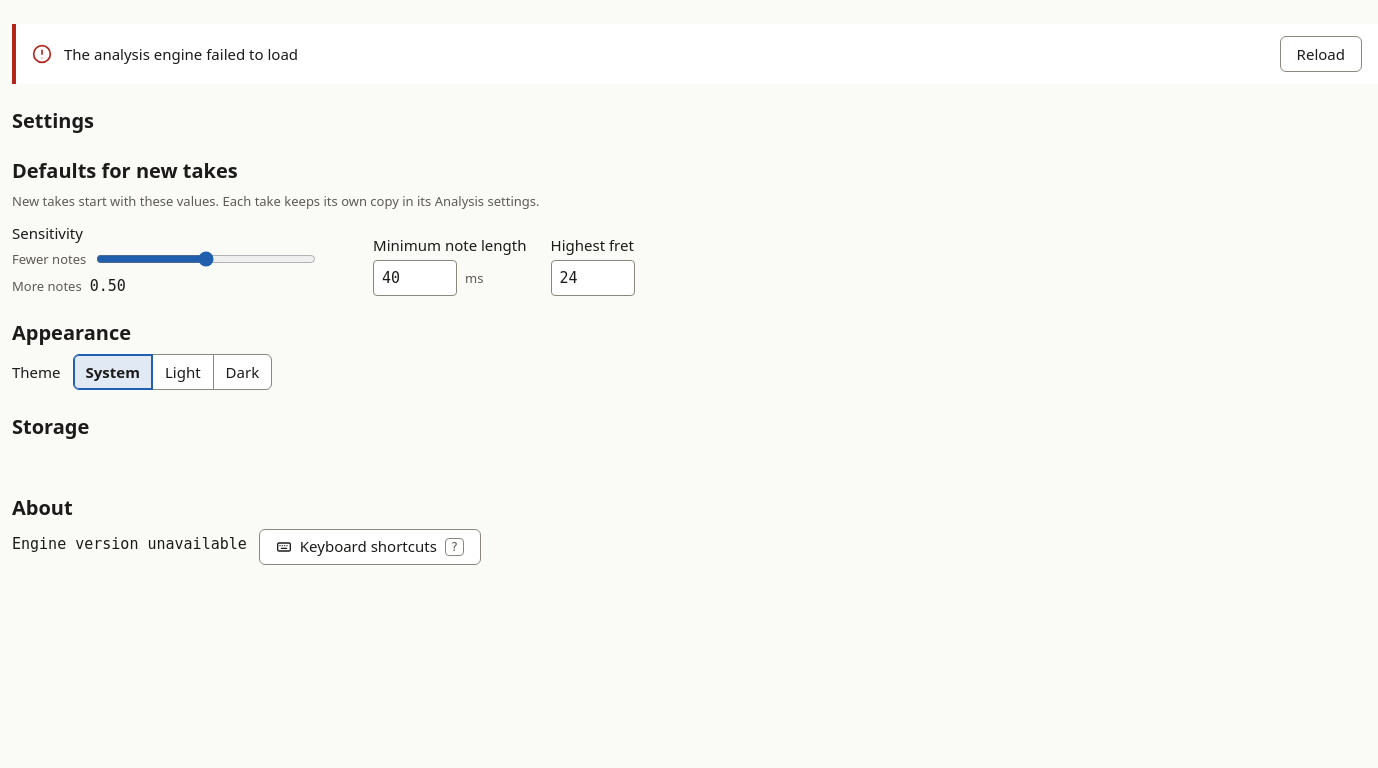
Scenario: engine failed and a take recording: Reload is refused with the reloadBusy toast
Expected: the text "The analysis engine failed to load" is shown, [64, 44, 298, 64]
Click the button "Reload": (1321, 54) [1280, 36, 1362, 72]
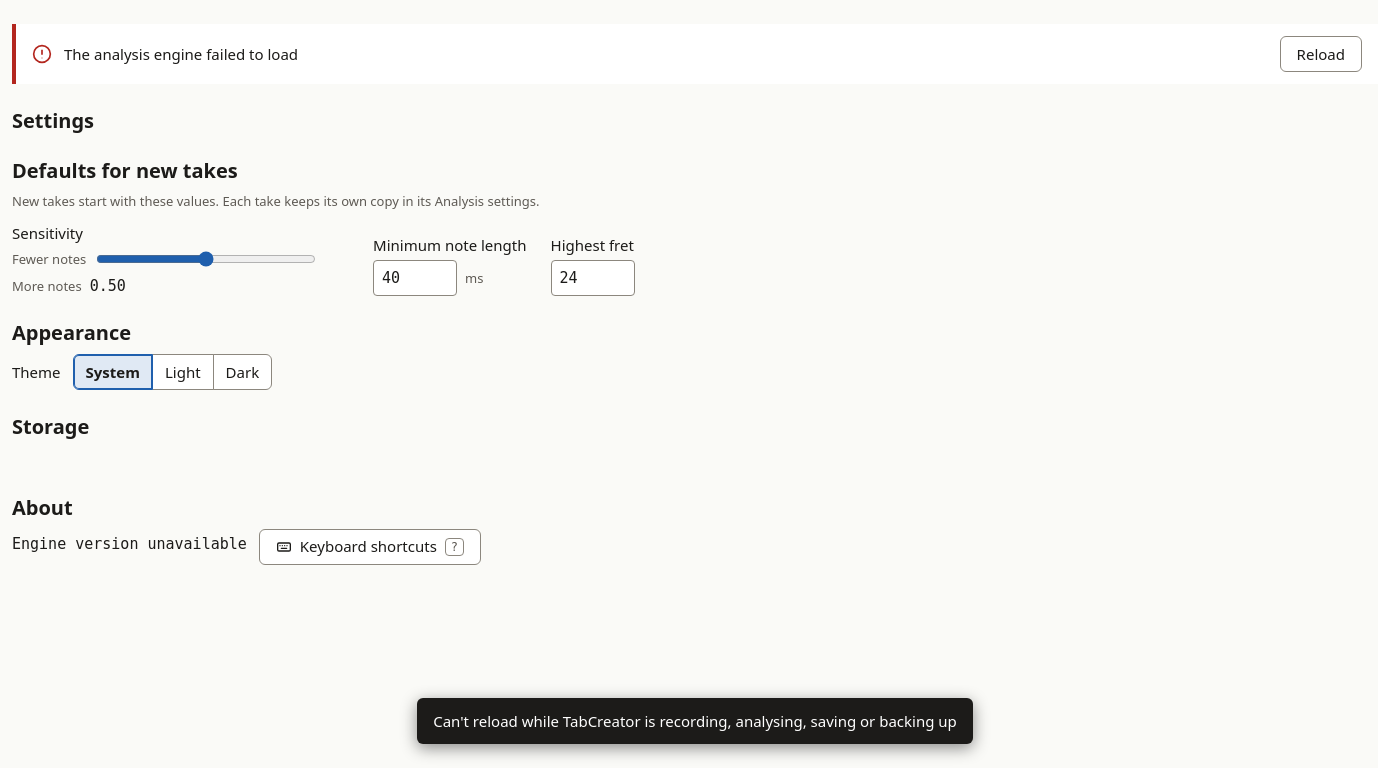
Expected: the element with test id "toast" reads "Can't reload while TabCreator is recording, analysing, saving or backing up", [433, 710, 957, 730]
